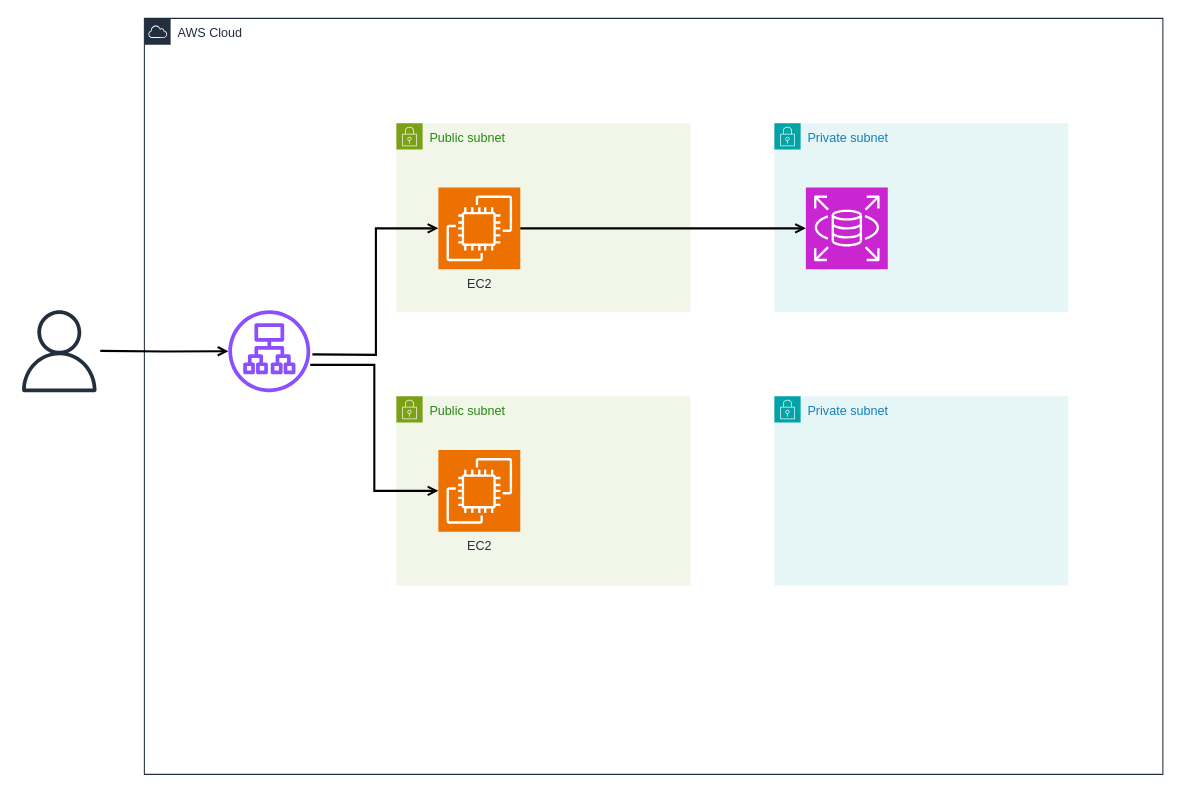
Image size: 1181x793. Some labels were removed from this diagram. The shapes that lost their labels are listed below. From the top down, each one's centre as x and y in pixels, then its label:
the point at 846,227: RDS for My SQL
the point at 269,351: ALB
